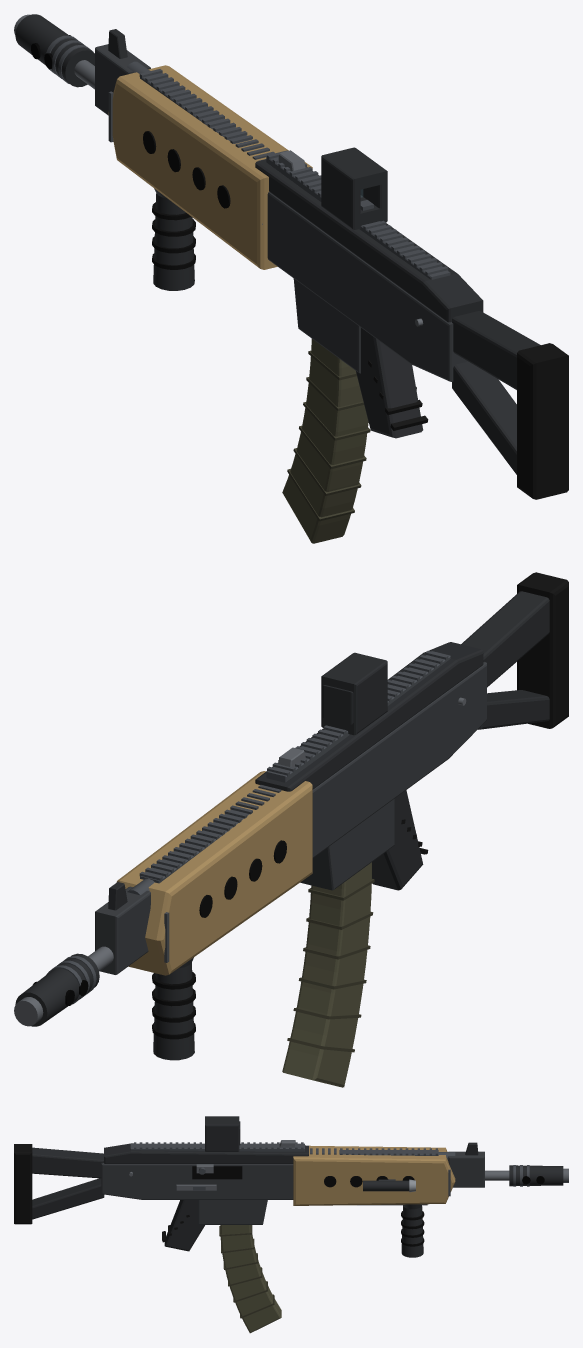
3 renders of one model, top to bottom at view 1: azimuth 30°, elevation 25°; view 2: azimuth 150°, elevation 25°; view 3: azimuth 270°, elevation 25°, orthographic. The views are drawn at different scales.
Size of the model in its own units: 0.0805 by 0.406 by 0.976.
